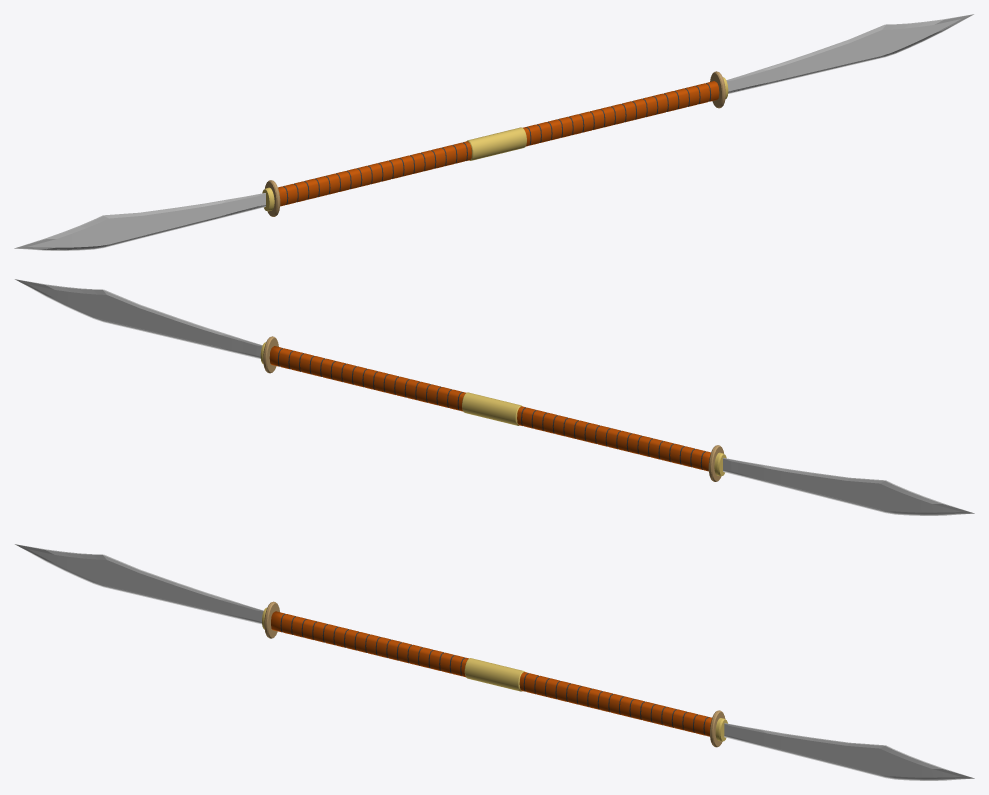
Rendered from CingCongKingKongPolarm.fbx.
The picture shows the model from 3 angles, top to bottom: view 1: azimuth 30°, elevation 25°; view 2: azimuth 150°, elevation 25°; view 3: azimuth 330°, elevation 25°; orthographic projection.
Parts seen in each view (by area): view 1: polySurface8; view 2: polySurface8; view 3: polySurface8.
Part boxes in pixels (x1,y1,x2,y2): polySurface8: (14, 14, 973, 250); polySurface8: (15, 279, 974, 515); polySurface8: (15, 544, 974, 780).
Bounding box in the file's own units: 2545 × 106 × 59.51.
